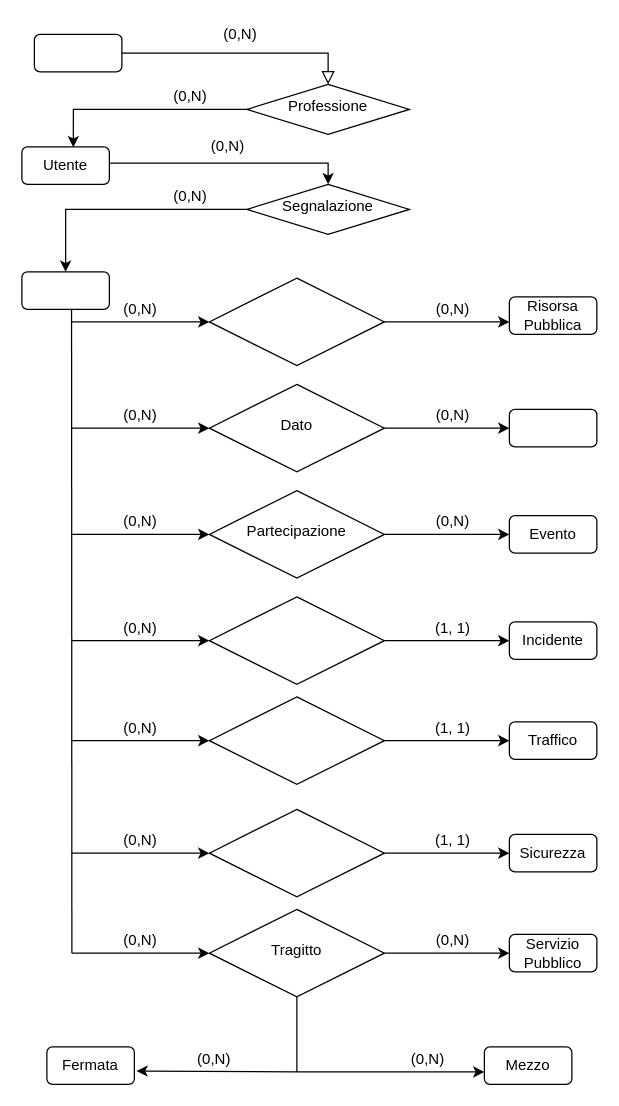
Some shapes in this 619 by 1106 pixel diagram are drawn without their labels. The box of each missing label's shape, as (x1, y1, x2, y2) in pixels:
Citta: (21, 271, 109, 309)
Monitoraggio SIcurezza: (208, 808, 384, 897)
Monitoraggio Traffico: (208, 696, 384, 784)
Operatore: (33, 33, 122, 72)
Registrazione Incidente: (208, 596, 384, 684)
Sensore: (508, 408, 597, 447)
Spesa Pubblica: (208, 277, 384, 366)
